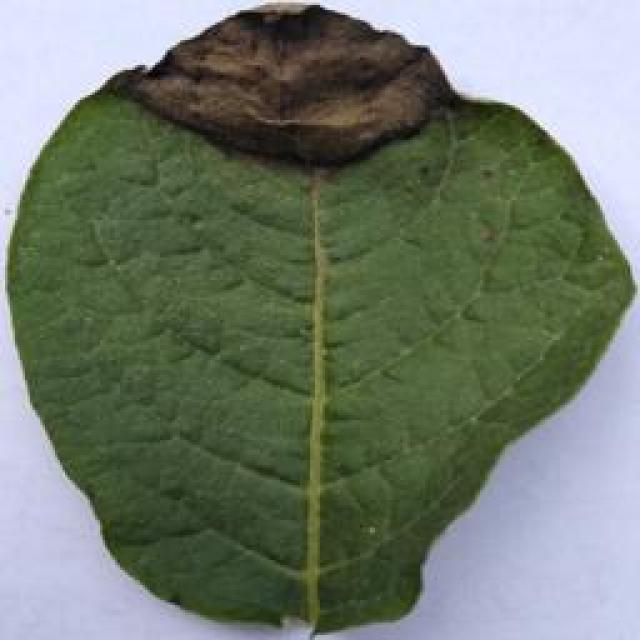Potato_Late_Blight: (0, 17, 627, 640)
